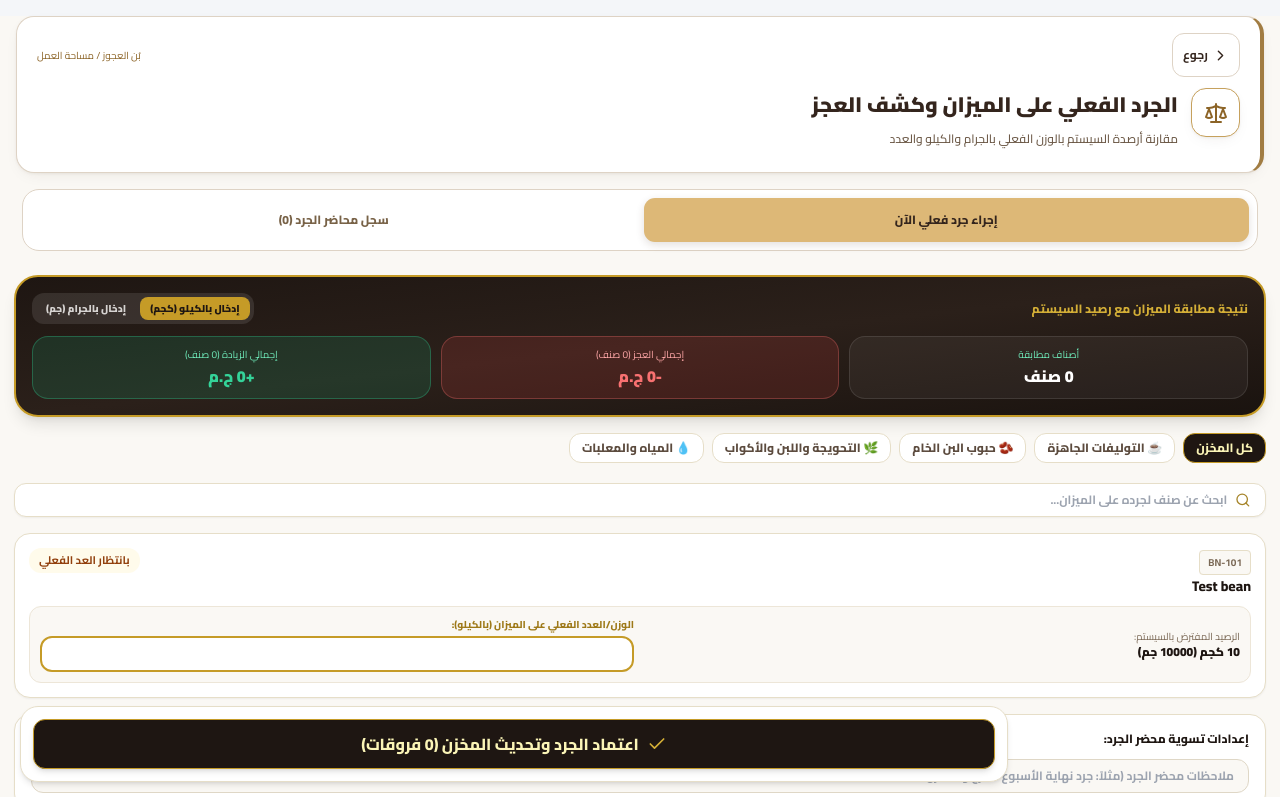
Scenario: rejects a blank inventory count rather than applying the previous valid number
This screenshot has width=1280, height=797.
Type "9" into the field named "الرصيد الفعلي: Test bean".
click(337, 654); type("9")  # box [40,636,634,672]
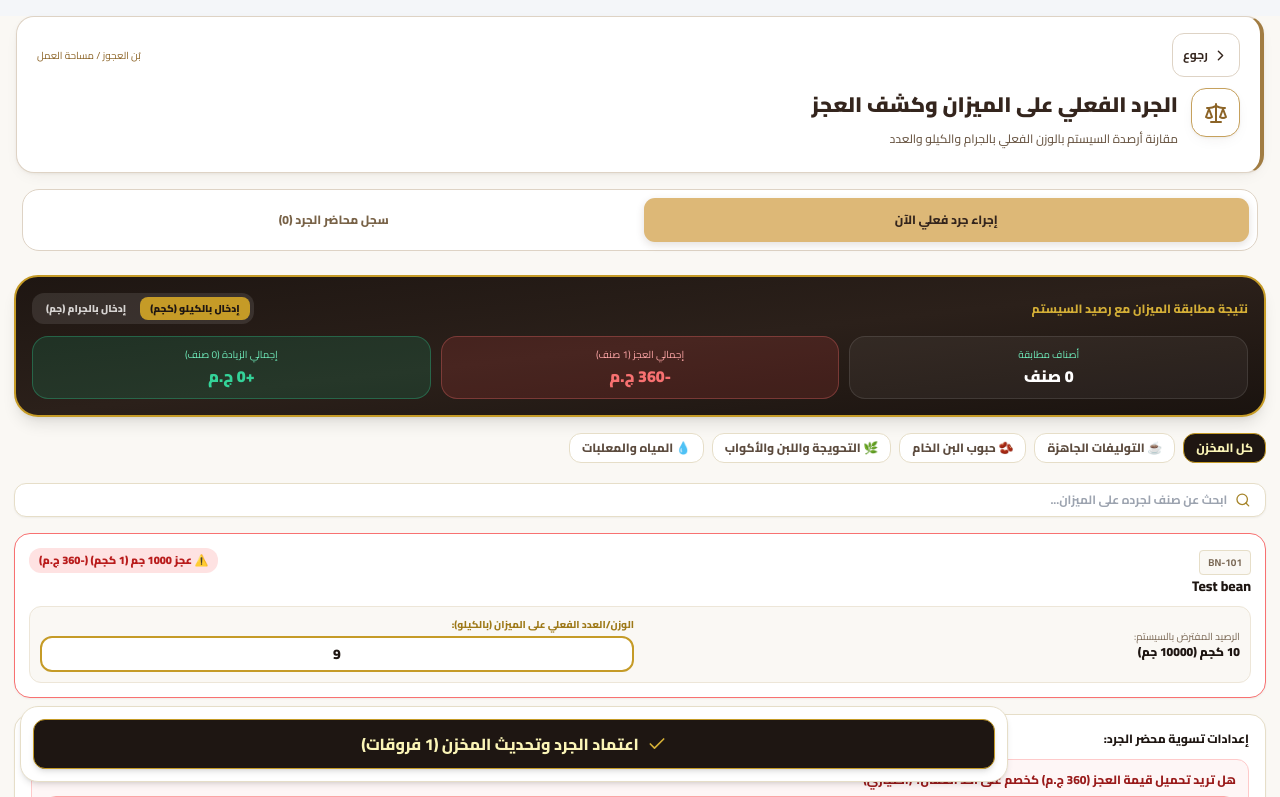
Clear the field named "الرصيد الفعلي: Test bean" at point(337, 654), box [40,636,634,672]
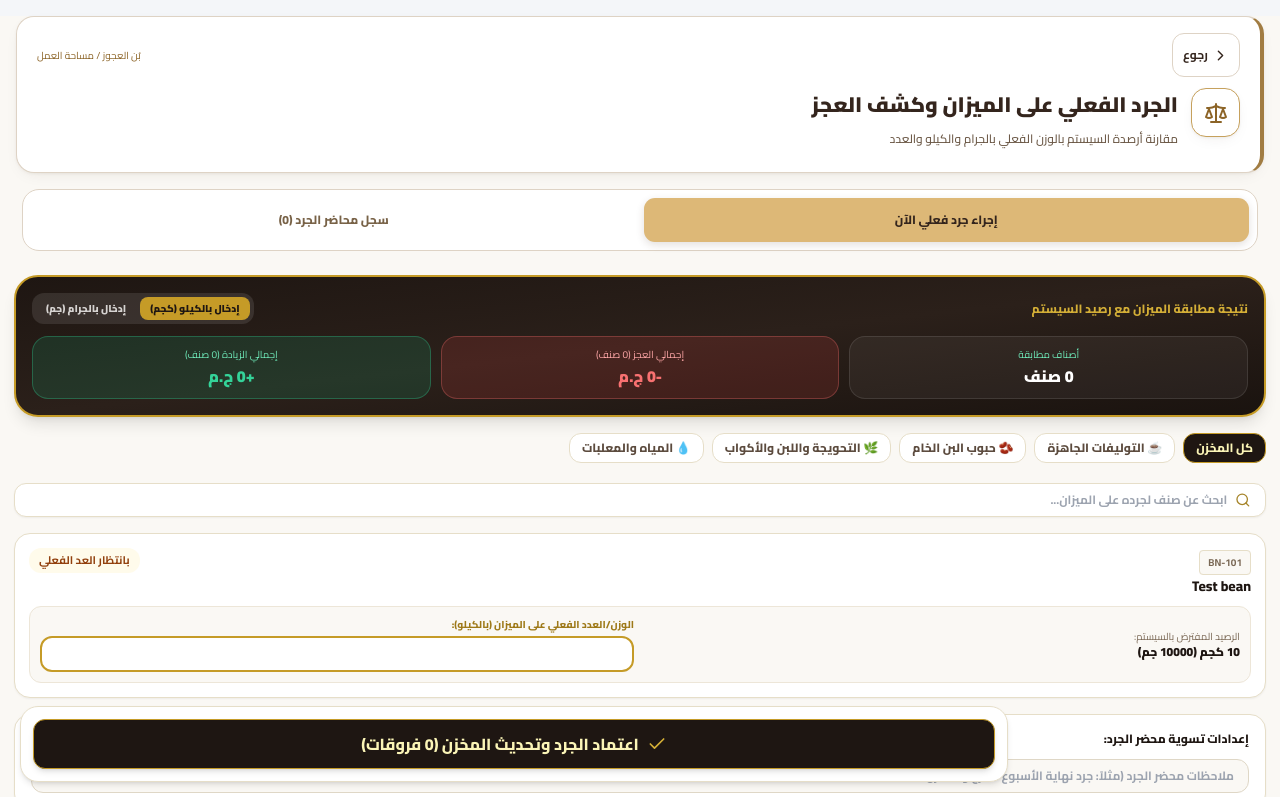
Click the button "اعتماد الجرد وتحديث المخزن (0 فروقات)".
click(514, 744)  # box [33,719,995,769]
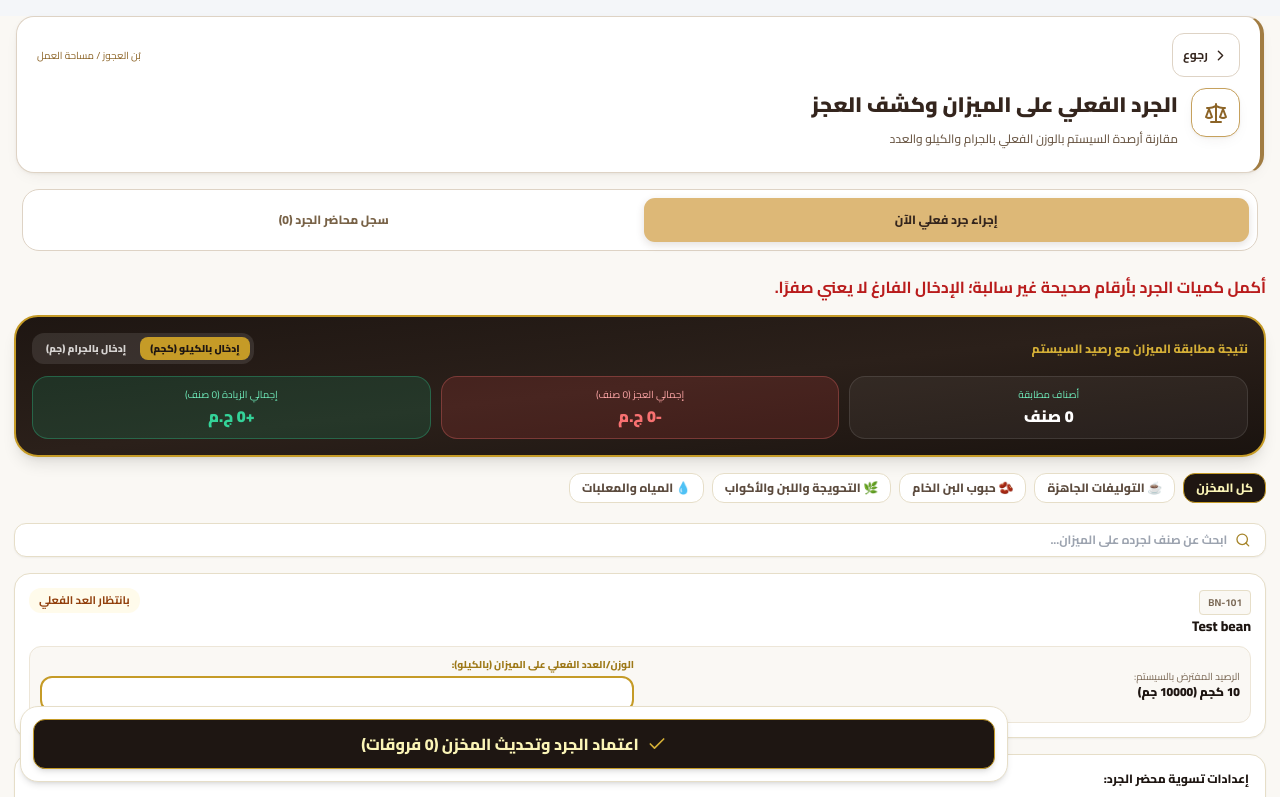
Now the message shows "الفارغ لا يعني صفرًا", box [775,272,1266,302]
